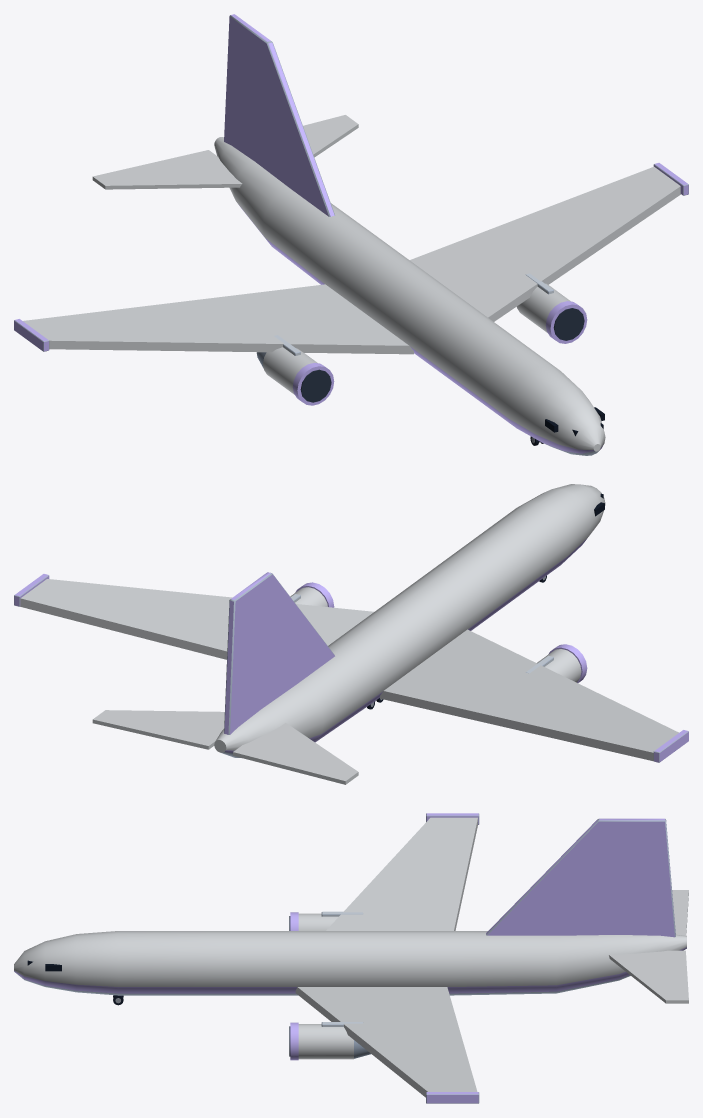
The model's file is cargo_plane.glb.
The picture shows the model from 3 angles, top to bottom: view 1: azimuth 30°, elevation 25°; view 2: azimuth 150°, elevation 25°; view 3: azimuth 270°, elevation 25°; orthographic projection. The views are drawn at different scales.
Parts seen in each view (by area): view 1: cargo_plane; view 2: cargo_plane; view 3: cargo_plane.
Part boxes in pixels (x1=…): cargo_plane: x1=14, y1=14, x2=688, y2=455; cargo_plane: x1=14, y1=484, x2=688, y2=784; cargo_plane: x1=14, y1=813, x2=688, y2=1103.
Bounding box in the file's own units: 63.8 × 19.44 × 64.7.
